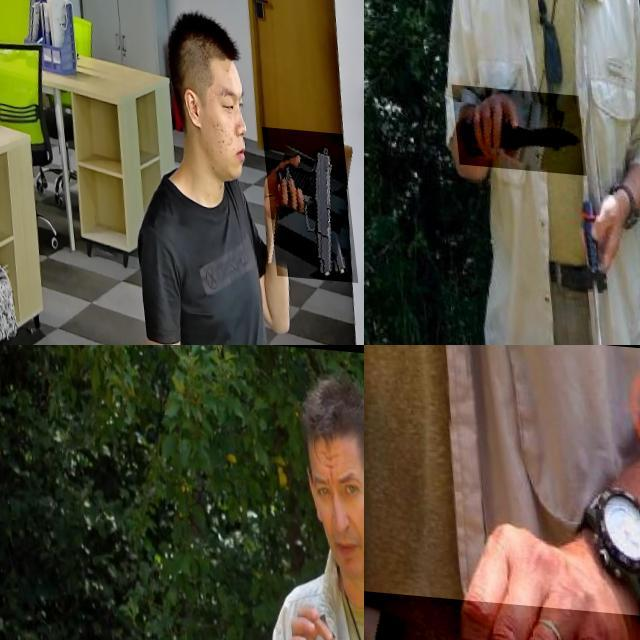-: (364, 571, 640, 640), (444, 80, 578, 168)
gun-knife-thesis - v11 Yolov5 augmented: (255, 119, 348, 274)
